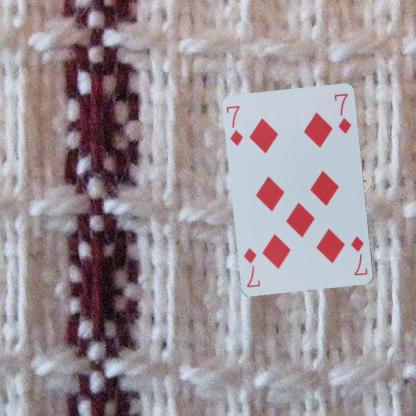7d: (224, 102, 245, 148), (349, 233, 370, 278)
